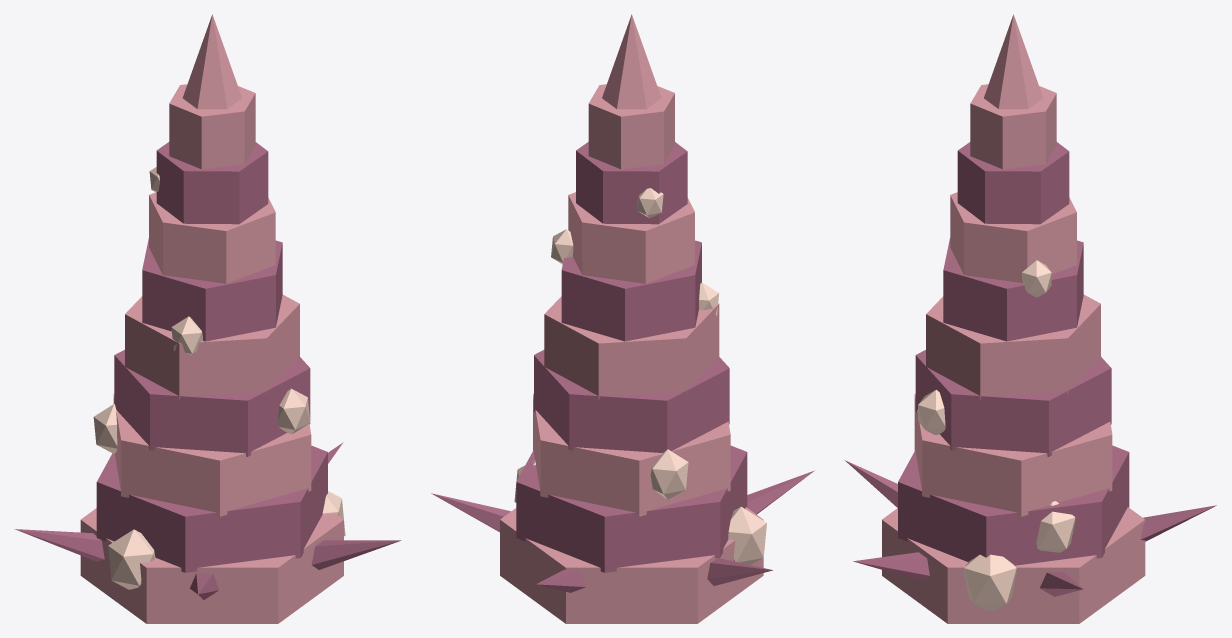
The model's file is BroodSpire.fbx.
The picture shows the model from 3 angles, left to right: view 1: azimuth 30°, elevation 25°; view 2: azimuth 150°, elevation 25°; view 3: azimuth 270°, elevation 25°; orthographic projection.
Visible parts, largest first — view 1: Body; view 2: Body; view 3: Body.
Part boxes in pixels (bbox=[...]): Body: bbox=[14, 14, 401, 623]; Body: bbox=[431, 14, 814, 623]; Body: bbox=[844, 14, 1216, 623].
Size of the model in its own units: 5.02 by 8.09 by 4.82.
